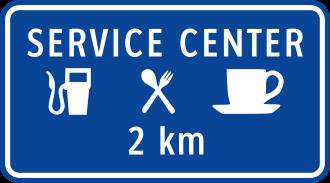Petrol Pump- Gas Station: (28, 57, 115, 136)
